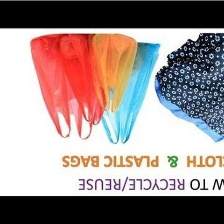plastic_bag: (81, 40, 164, 151), (26, 34, 94, 141), (58, 29, 109, 126), (90, 32, 138, 117)
